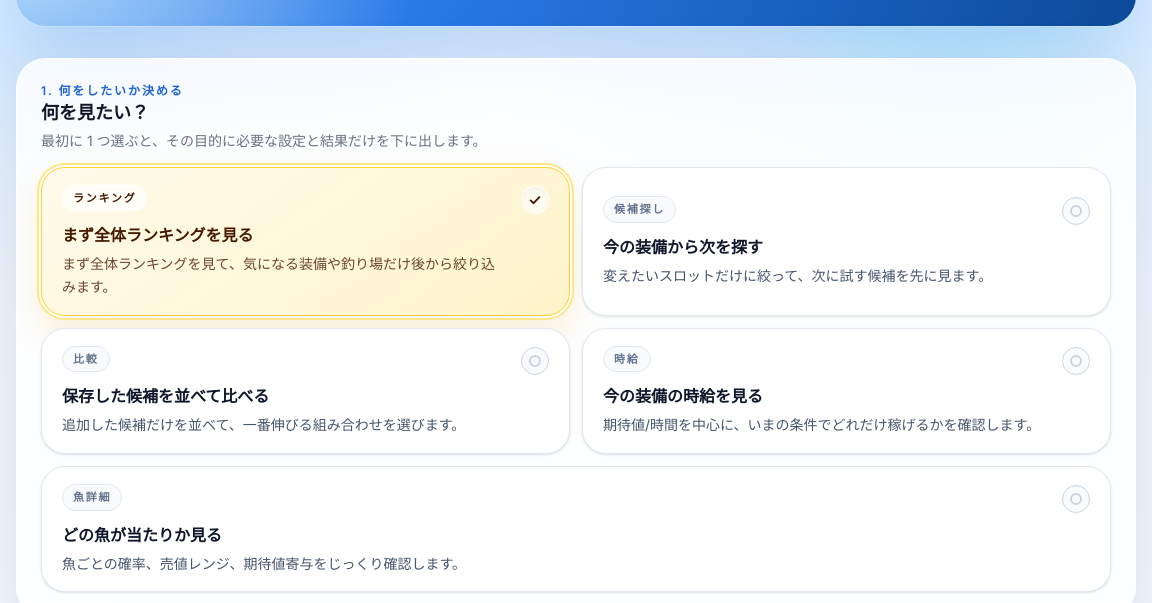
UI quality – overflow and wrapping prevention › compare empty state shows navigation buttons to ranking and upgrade flows
Click the button "比較 保存した候補を並べて比べる 追加した候補だけを並べて、一番伸びる組み合わせを選びます。": (86, 359) [41,328,570,454]
(page scrolled)
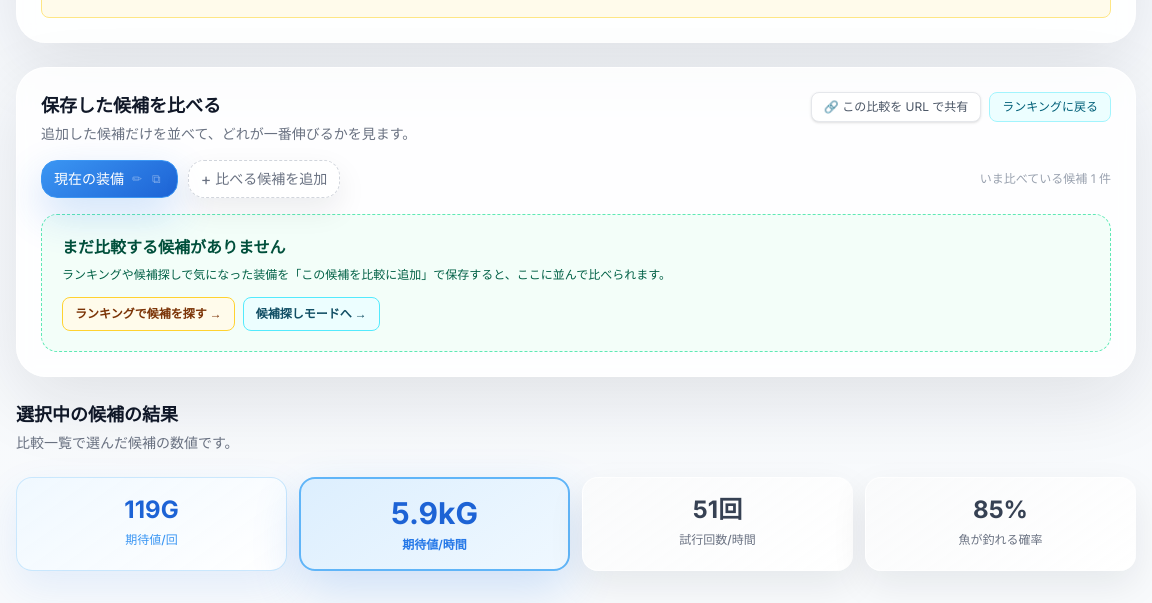
Check: the element with test id "compare-empty-state" is shown, box [41,214,1111,352]
Check: the element with test id "compare-empty-state" shows "まだ比較する候補がありません", box [62,237,286,257]
Check: the button with test id "compare-empty-go-ranking" is shown
# Clicking the ranking button switches the goal view.
Click the button with test id "compare-empty-go-ranking": (148, 314) [62,297,235,331]
(page scrolled)
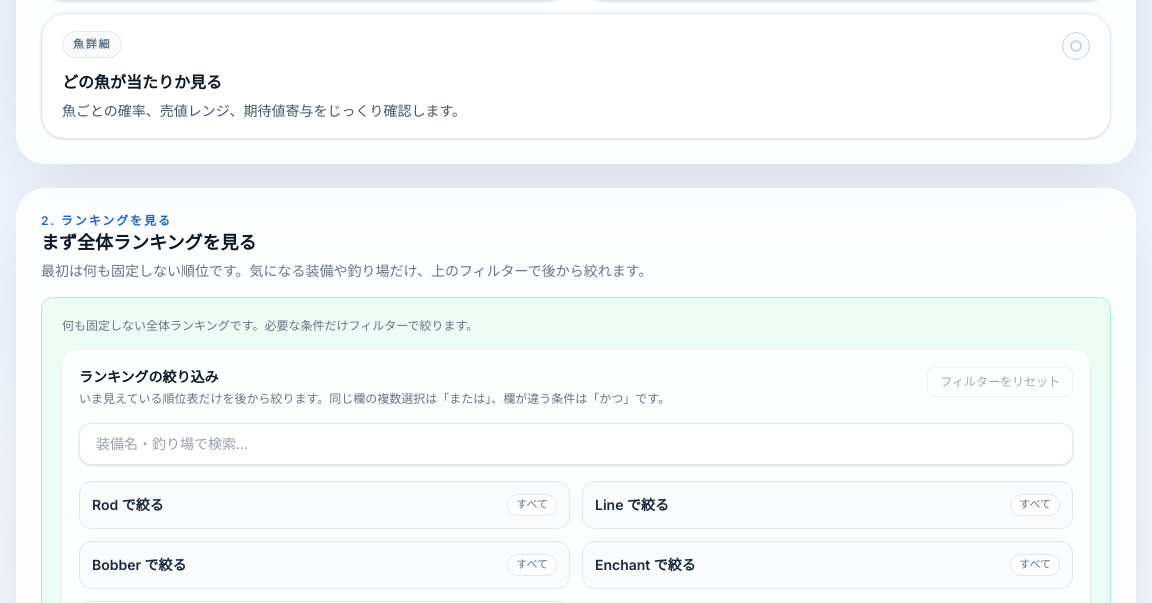
Check: the heading "まず全体ランキングを見る" is shown, box [41,232,256,253]
Check: the element with test id "compare-empty-state" is gone
